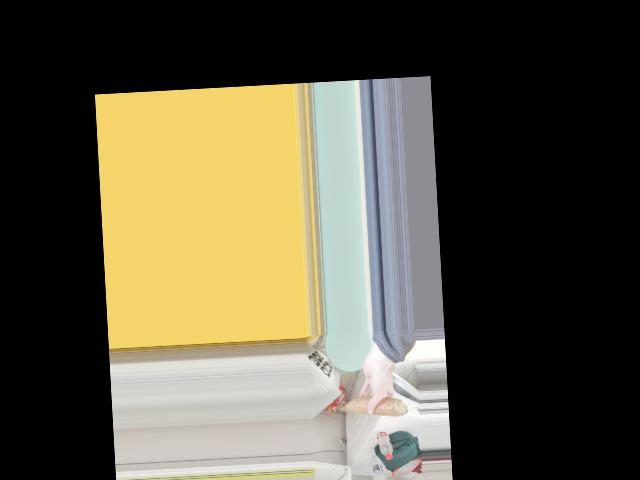sweet_potato: (345, 395, 398, 413)
